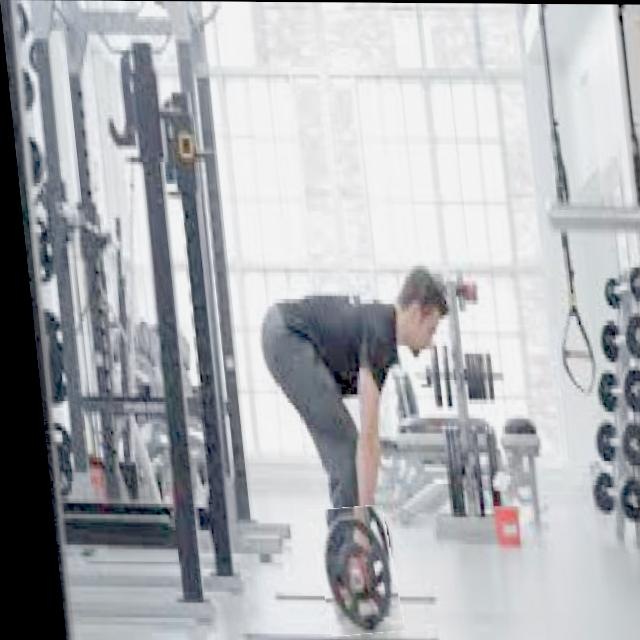barbell: (301, 507, 391, 636)
